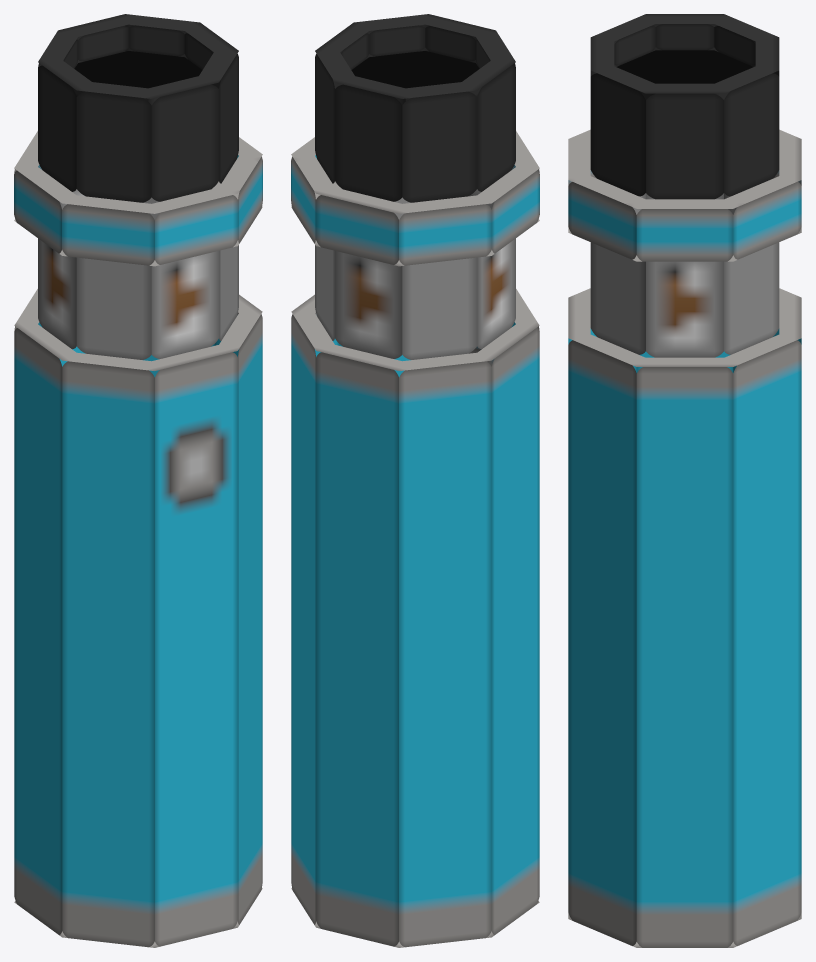
Rendered from Vape Pen.fbx.
The picture shows the model from 3 angles, left to right: view 1: azimuth 30°, elevation 25°; view 2: azimuth 150°, elevation 25°; view 3: azimuth 270°, elevation 25°; orthographic projection.
Parts seen in each view (by area): view 1: cylinder; view 2: cylinder; view 3: cylinder.
Part boxes in pixels (x1,y1,x2,y2): cylinder: (14, 14, 262, 947); cylinder: (291, 14, 539, 947); cylinder: (568, 14, 801, 947).
Bounding box in the file's own units: 25.05 × 100 × 25.05.
1 material, 1 textured.
